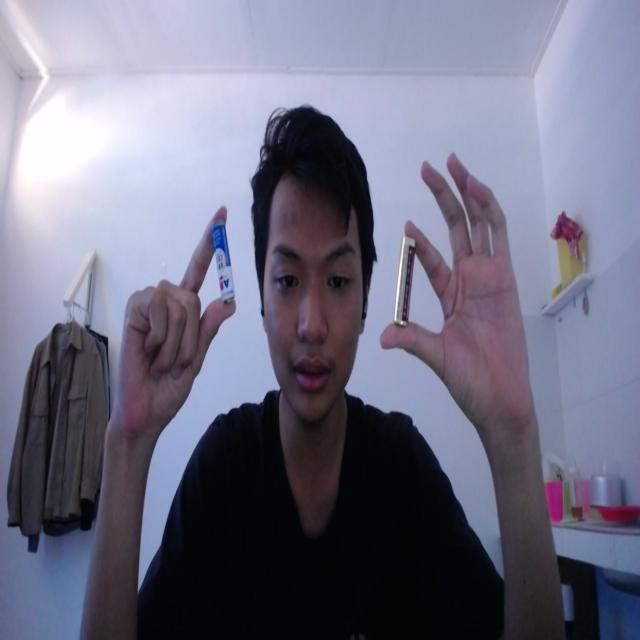AA: (206, 215, 238, 312)
AAA: (392, 214, 420, 360)
